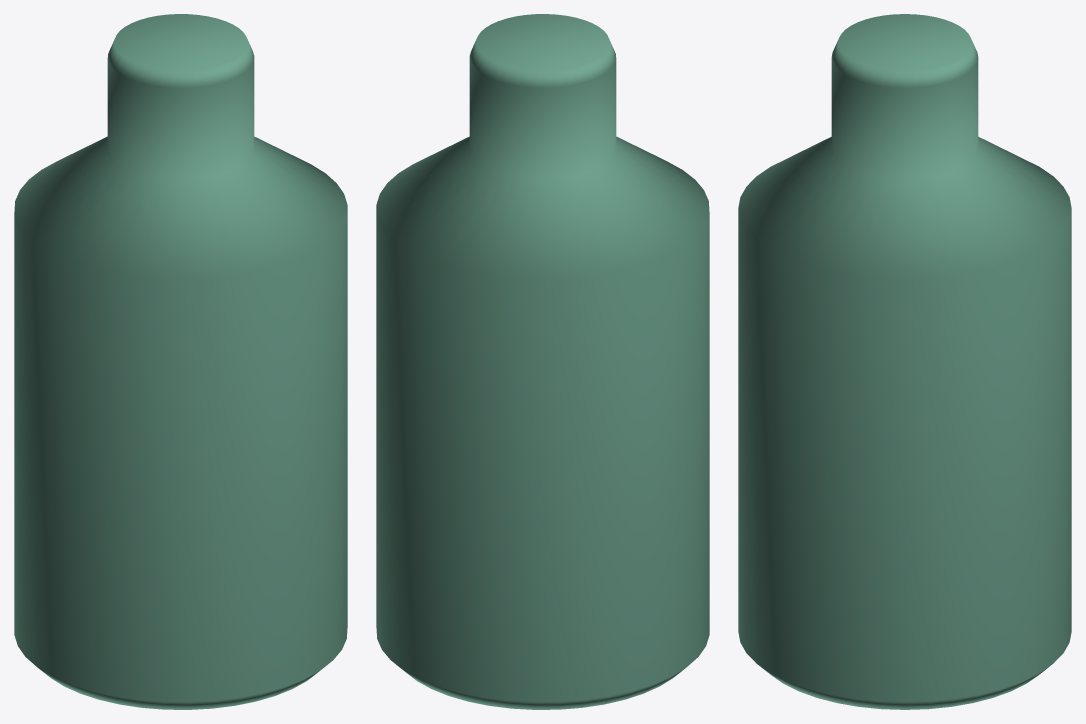
The model's file is showroom-bottle.gltf.
3 renders of one model, left to right at view 1: azimuth 30°, elevation 25°; view 2: azimuth 150°, elevation 25°; view 3: azimuth 270°, elevation 25°, orthographic.
Bounding box in the file's own units: 1 × 2 × 1.
